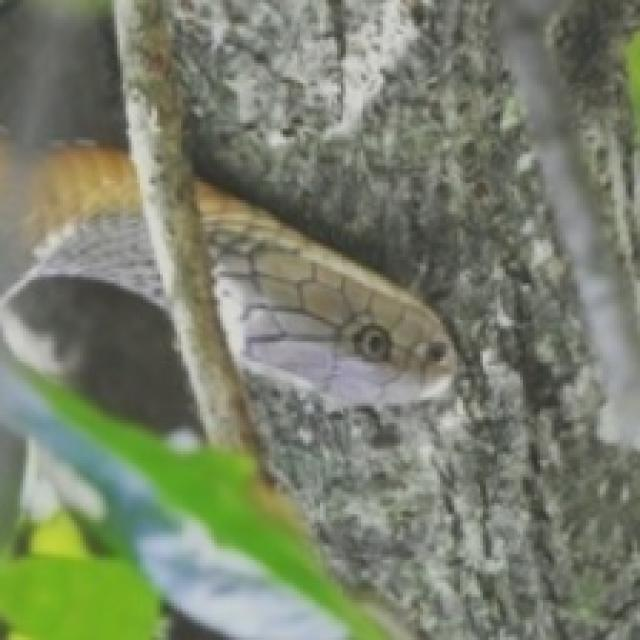king cobra: (199, 181, 455, 410), (0, 139, 165, 308)
